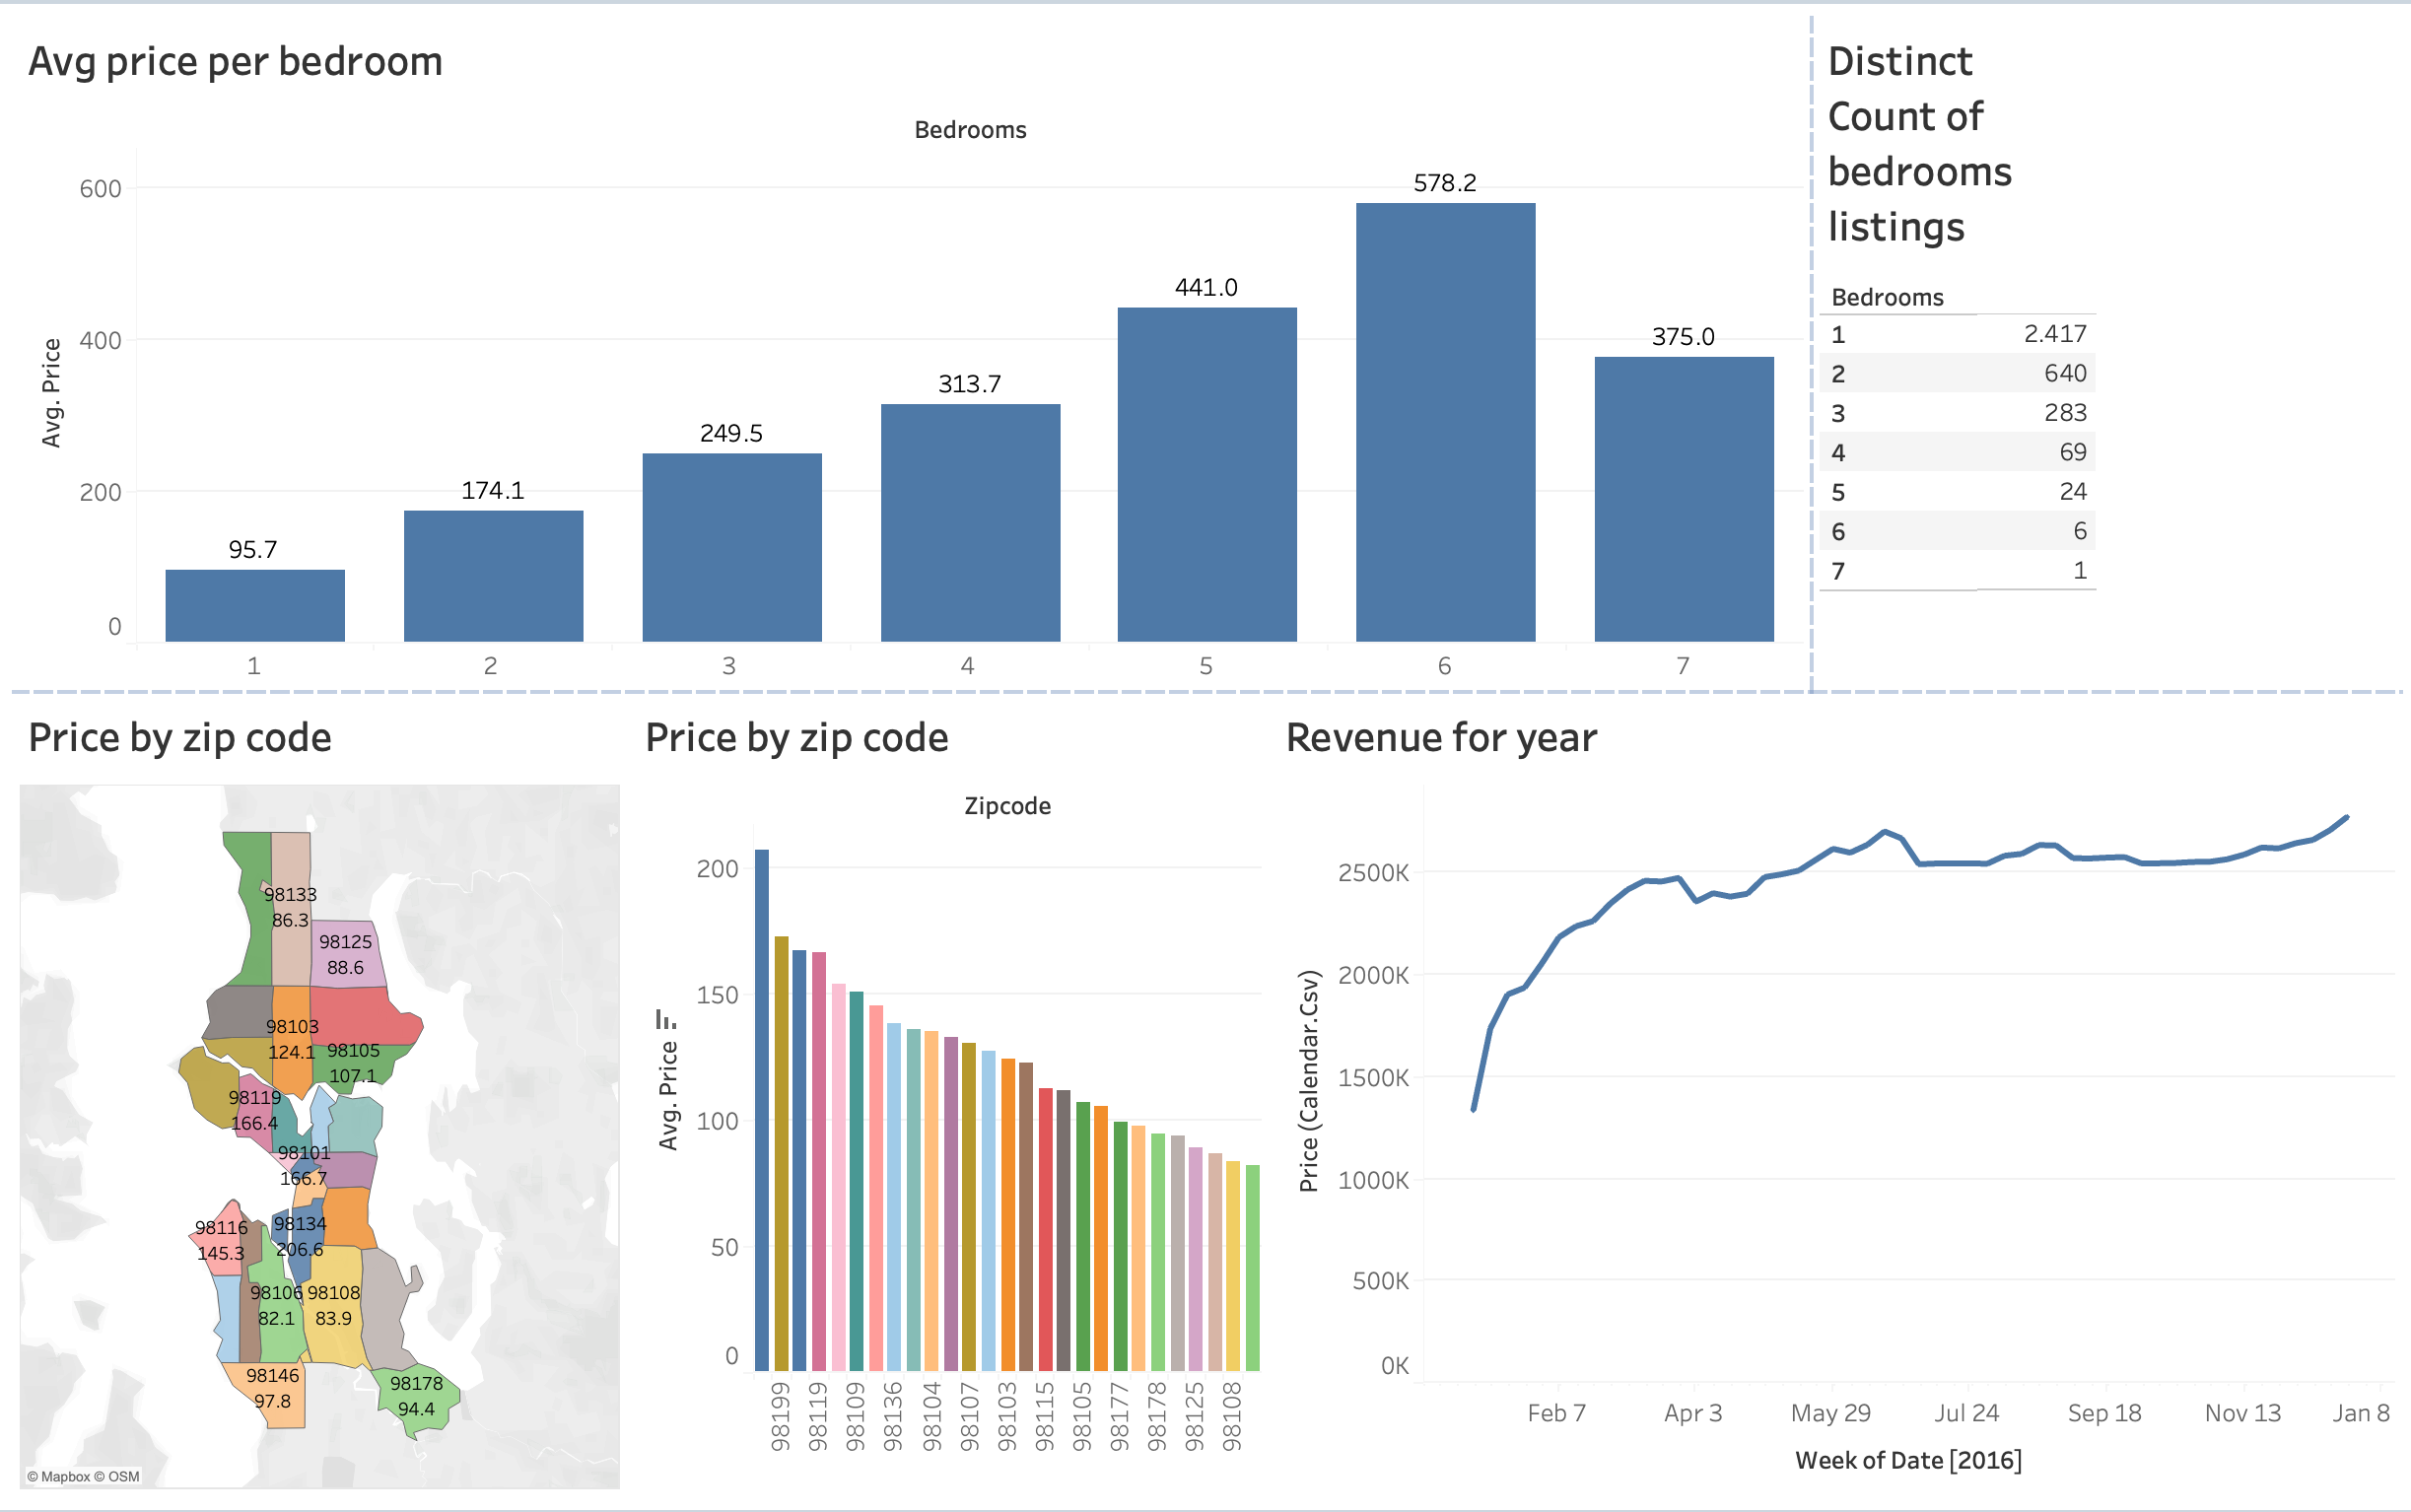

The dashboard page shown, as its layout file describes it:
{"tool":"tableau","page":{"name":"Dashboard 1","canvas":[1000,1000],"units":"permille","ordinal":0},"visuals":[{"type":"worksheet","title":"Sheet 4","mark":"Automatic","rows":["price"],"cols":["bedrooms"],"box":[6.5,12.1,742.9,444.6]},{"type":"worksheet","title":"Sheet 5","mark":"Automatic","rows":["bedrooms"],"box":[749.4,12.1,244.1,444.6]},{"type":"worksheet","title":"Sheet 2","mark":"Multipolygon","box":[6.5,456.8,254.7,531.1]},{"type":"worksheet","title":"Sheet 1","mark":"Automatic","rows":["price"],"cols":["zipcode"],"box":[261.2,456.8,264.4,531.1]},{"type":"worksheet","title":"Sheet 3","mark":"Automatic","rows":["price (calendar.csv)"],"cols":["date"],"box":[525.6,456.8,467.9,531.1]}]}

Visuals, with their boxes on the dashboard's canvas, which has no fixed pixel size, in thousandths of its width and height (x1, y1, x2, y2). These are canvas units, not pixel positions in the 2411x1512 screenshot, which may show the page scaled, cropped or inside an application window:
"Sheet 4" worksheet: detection(6, 12, 749, 457)
"Sheet 5" worksheet: detection(749, 12, 994, 457)
"Sheet 2" worksheet (Multipolygon marks): detection(6, 457, 261, 988)
"Sheet 1" worksheet: detection(261, 457, 526, 988)
"Sheet 3" worksheet: detection(526, 457, 994, 988)
